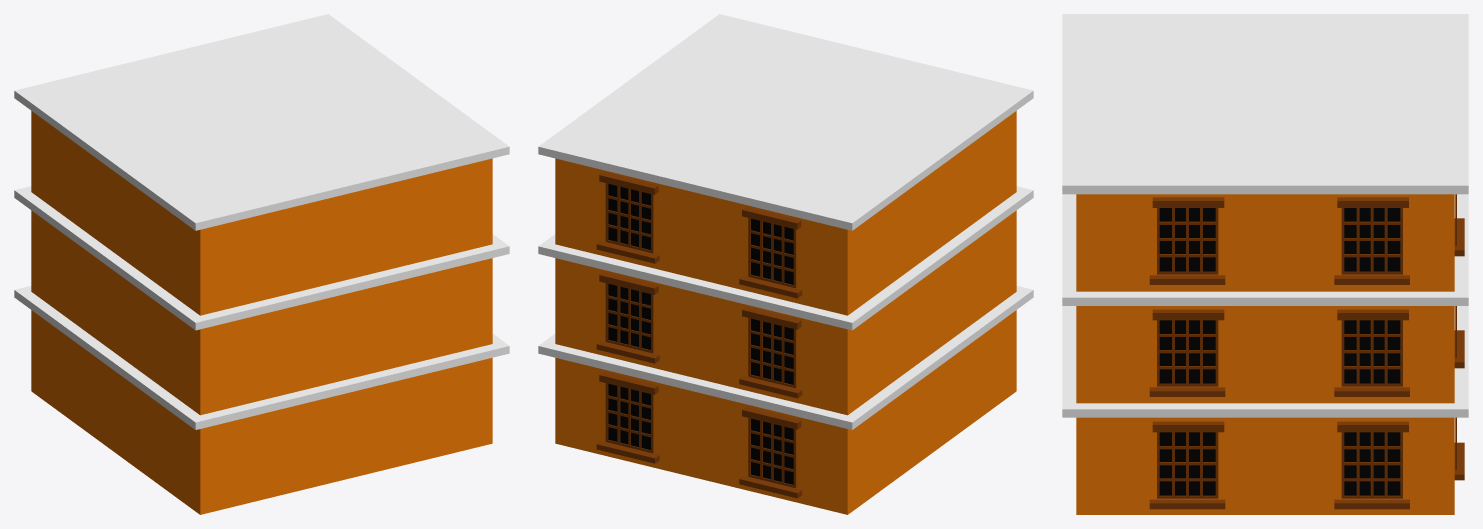
File: modularbatiment.fbx
3 renders of one model, left to right at view 1: azimuth 30°, elevation 25°; view 2: azimuth 150°, elevation 25°; view 3: azimuth 270°, elevation 25°, orthographic. The views are drawn at different scales.
Visible parts, largest first — view 1: modularbatiment; view 2: modularbatiment; view 3: modularbatiment.
Part boxes in pixels (box(x1,y1,x2,y2)): modularbatiment: box(14, 14, 509, 514); modularbatiment: box(538, 14, 1033, 514); modularbatiment: box(1062, 14, 1468, 514).
Bounding box in the file's own units: 3657 × 3326 × 3657.
